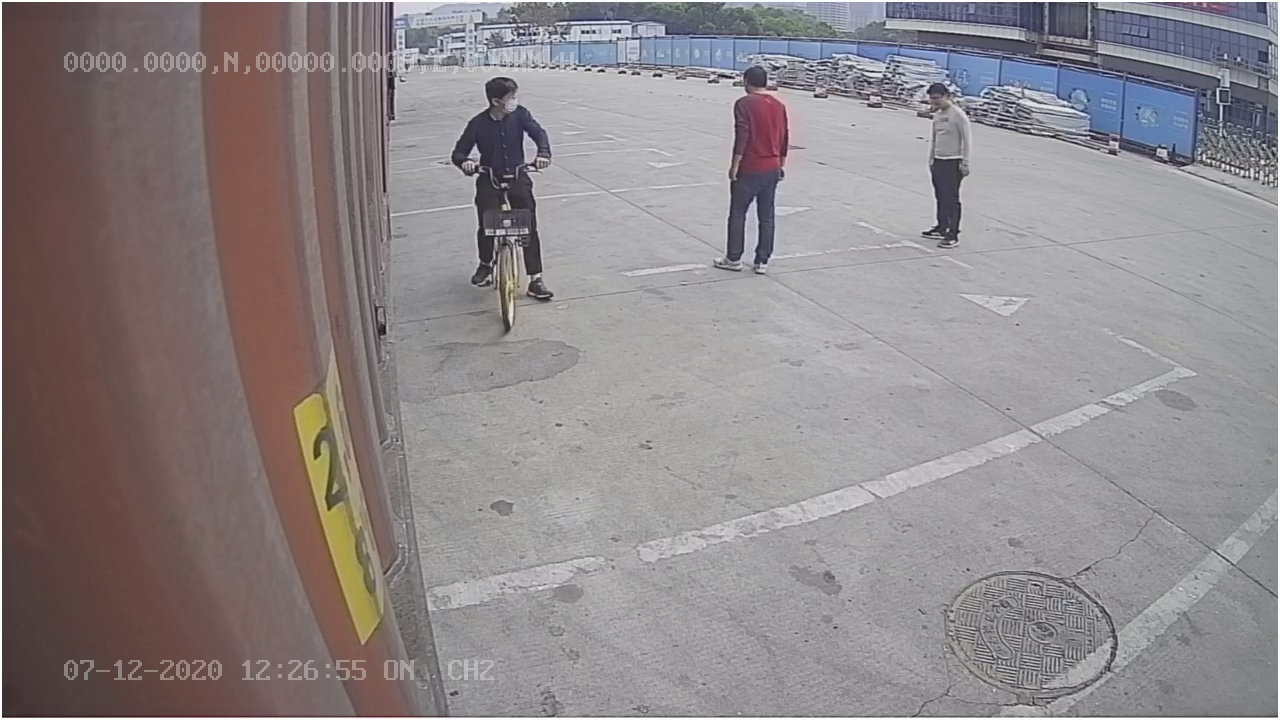person: (707, 60, 796, 280)
